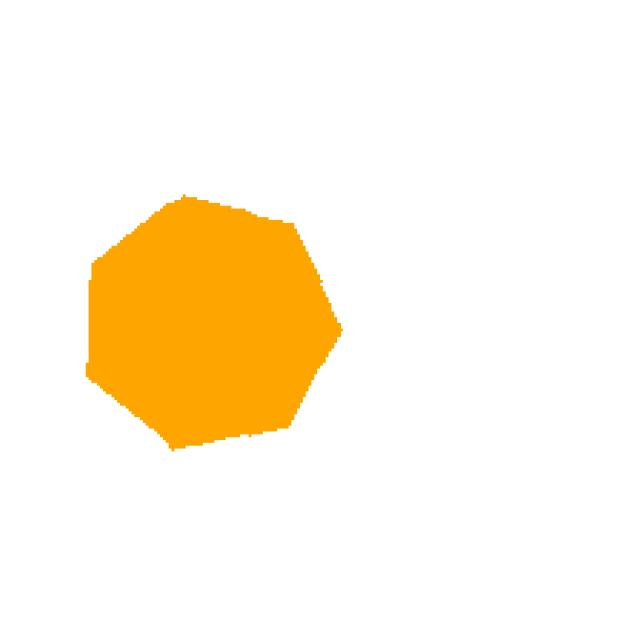Circle: (59, 137, 377, 480)
